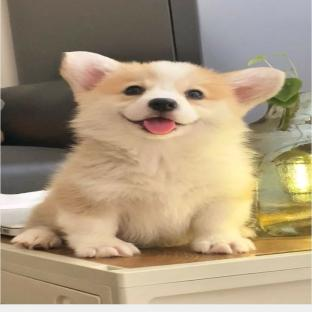Animal: (12, 51, 285, 258)
